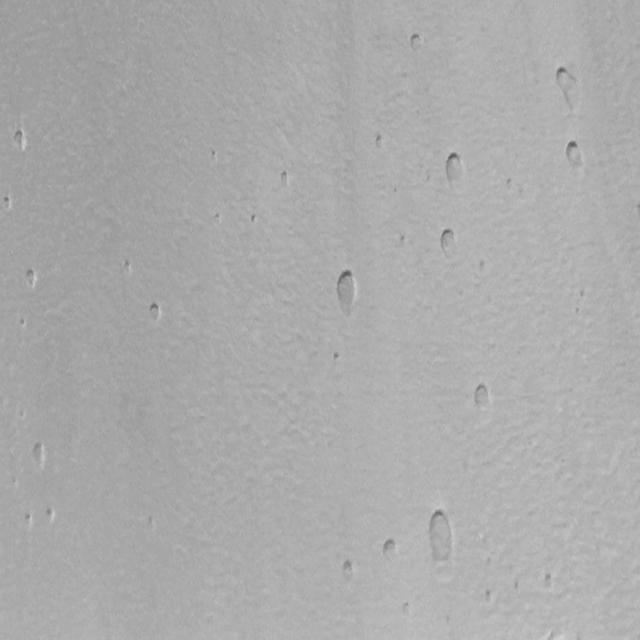pin holes: (419, 506, 459, 572), (549, 60, 585, 123), (332, 265, 362, 315), (441, 149, 469, 188), (469, 382, 495, 415), (562, 138, 585, 173), (437, 226, 460, 258), (28, 441, 49, 469), (9, 126, 30, 154), (339, 558, 360, 585), (379, 536, 401, 561), (145, 300, 166, 326), (407, 30, 428, 56), (22, 266, 40, 292), (1, 192, 17, 216), (542, 573, 559, 594), (371, 132, 389, 151), (399, 600, 415, 621), (277, 168, 293, 188), (44, 506, 58, 526), (122, 259, 136, 277), (23, 511, 35, 529), (483, 588, 495, 605), (209, 149, 222, 164), (332, 349, 345, 364), (247, 212, 259, 228), (213, 212, 225, 228), (17, 316, 29, 331), (398, 236, 407, 252), (478, 259, 486, 273), (512, 578, 519, 594), (578, 287, 586, 300), (506, 179, 512, 194), (392, 185, 398, 198), (575, 306, 581, 316)
